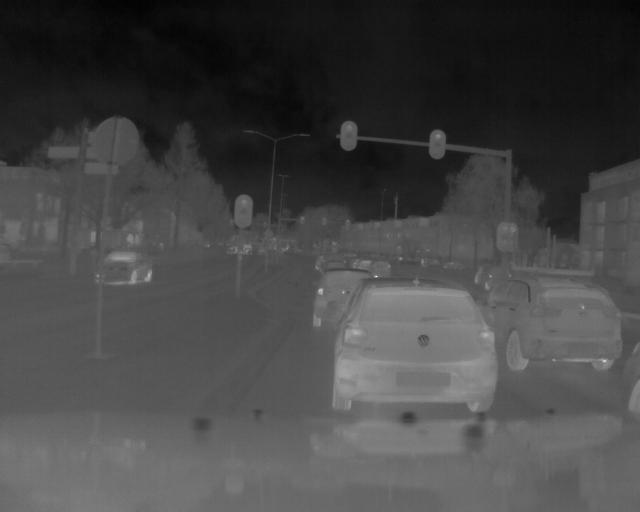car: (331, 278, 499, 413), (484, 273, 624, 371), (313, 264, 376, 329), (89, 247, 153, 288)
